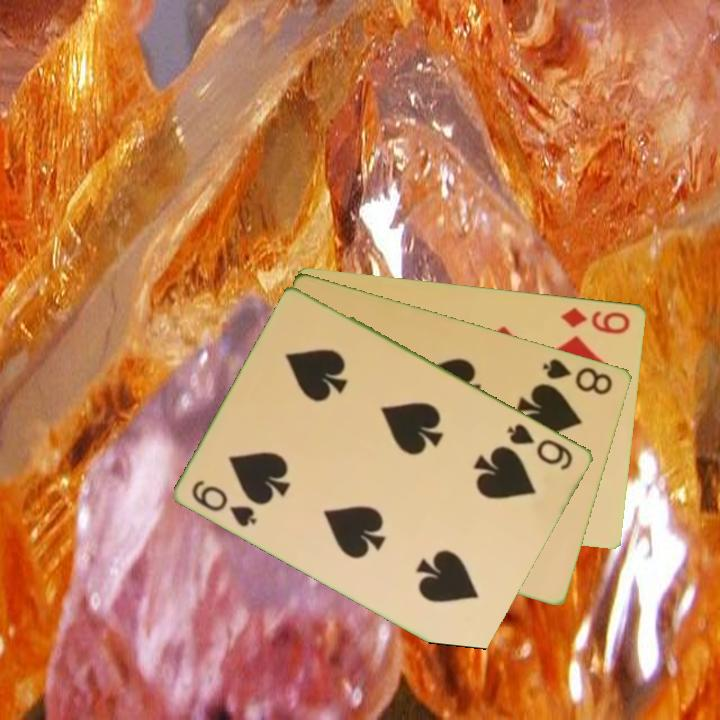6s: (503, 419, 577, 473), (188, 476, 260, 530)
8s: (539, 354, 616, 398)
9d: (558, 303, 634, 337)
